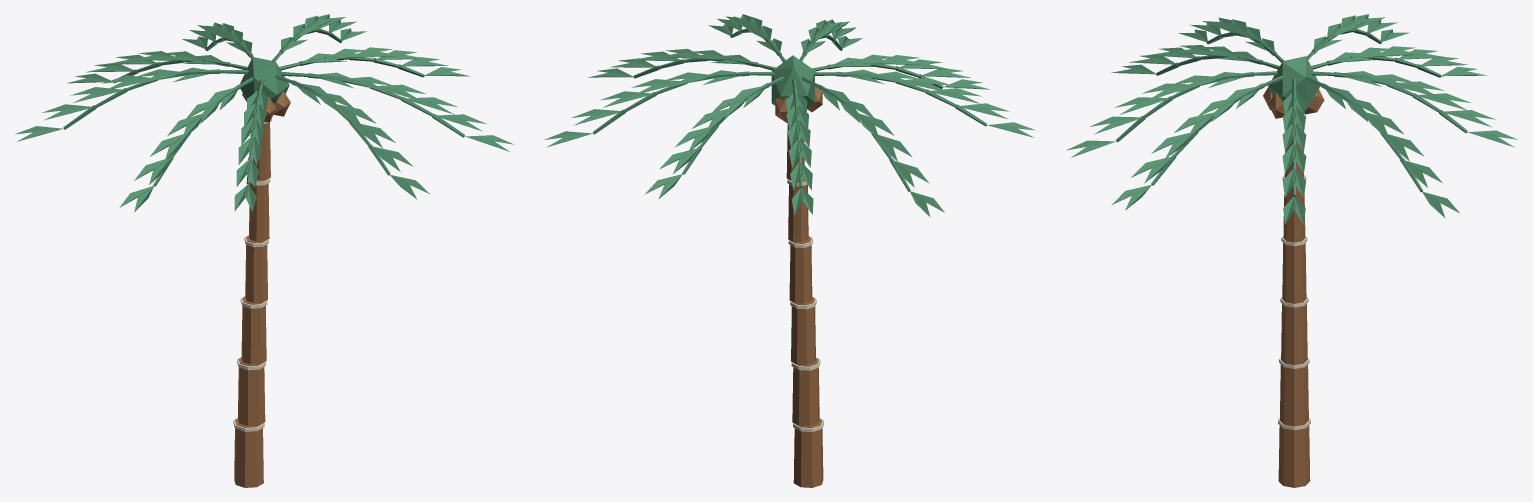
Rendered from LM_PROP_PalmMamak.glb.
The picture shows the model from 3 angles, left to right: view 1: azimuth 30°, elevation 25°; view 2: azimuth 150°, elevation 25°; view 3: azimuth 270°, elevation 25°; orthographic projection. The views are drawn at different scales.
Parts seen in each view (by area): view 1: LM_PROP_PalmMamak; view 2: LM_PROP_PalmMamak; view 3: LM_PROP_PalmMamak.
Boxes of the visible parts, <box> form: LM_PROP_PalmMamak: <box>15,14,513,487</box>; LM_PROP_PalmMamak: <box>544,14,1035,487</box>; LM_PROP_PalmMamak: <box>1066,14,1518,487</box>.
Bounding box in the file's own units: 7.12 × 7.06 × 6.76.
